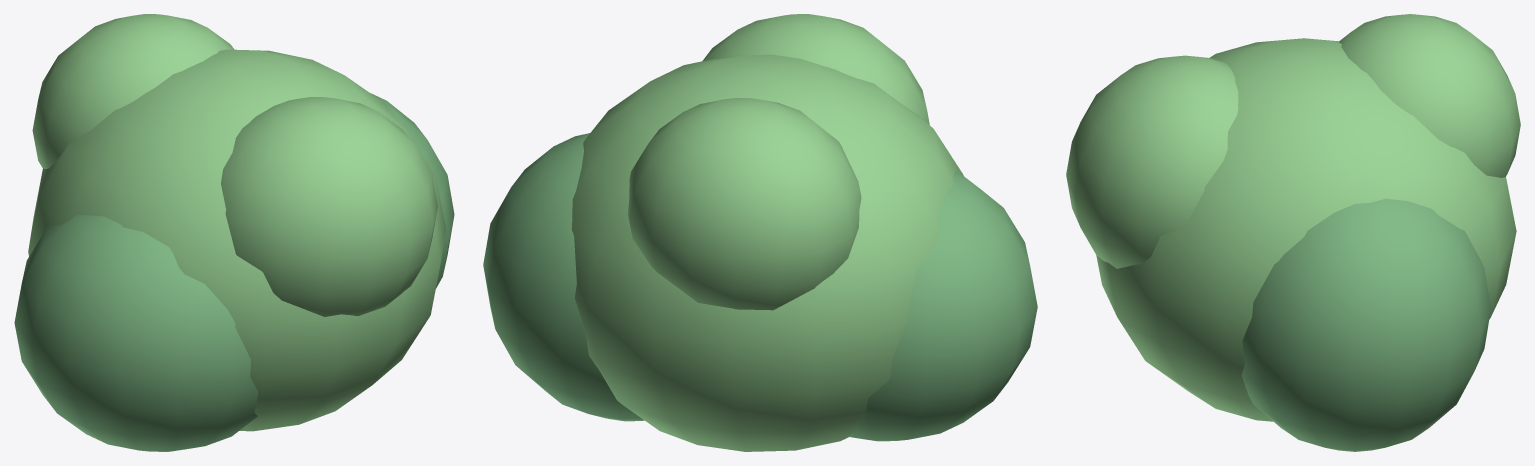
File: bush.glb
3 renders of one model, left to right at view 1: azimuth 30°, elevation 25°; view 2: azimuth 150°, elevation 25°; view 3: azimuth 270°, elevation 25°, orthographic. The views are drawn at different scales.
Visible parts, largest first — view 1: bush; view 2: bush; view 3: bush.
Boxes of the visible parts, left/top/right/bottom form: bush: left=14, top=14, right=454, bottom=451; bush: left=483, top=14, right=1037, bottom=451; bush: left=1066, top=14, right=1520, bottom=451.
Size of the model in its own units: 1.24 by 0.94 by 1.07.
